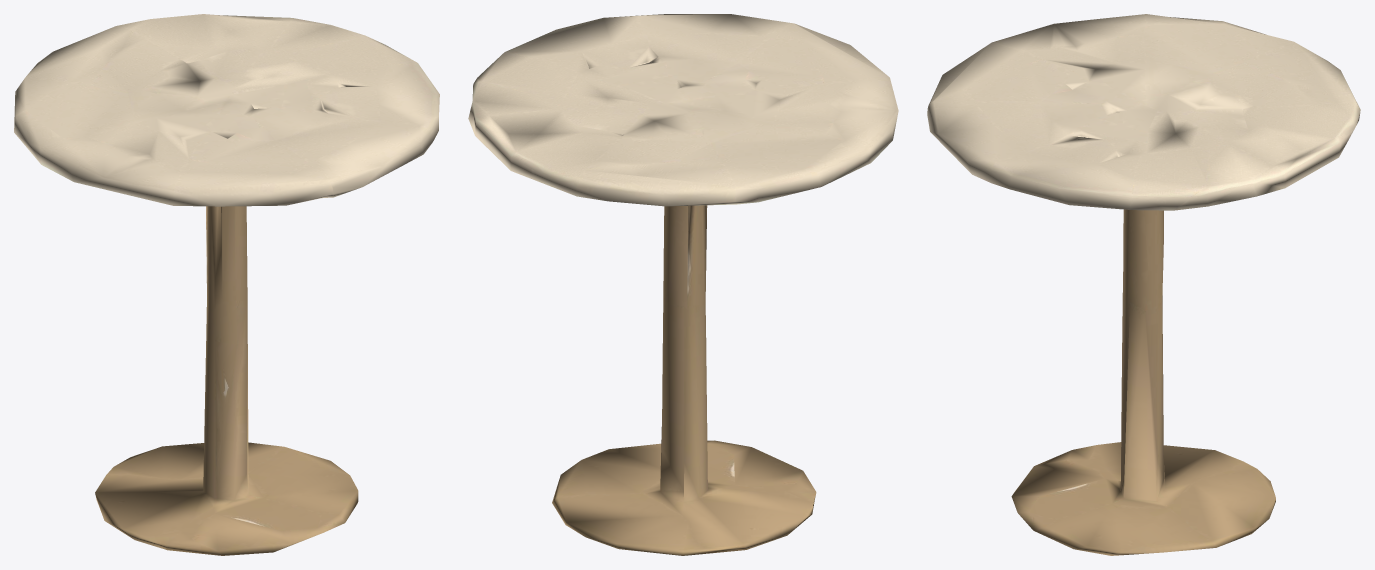
Rendered from cafetable_lod1.glb.
3 views of the same model, side by side, from view 1: azimuth 30°, elevation 25°; view 2: azimuth 150°, elevation 25°; view 3: azimuth 270°, elevation 25° (orthographic).
Parts seen in each view (by area): view 1: tripo_node_3c3d4659-8a66-43ce-8b4d-4d35e86db970; view 2: tripo_node_3c3d4659-8a66-43ce-8b4d-4d35e86db970; view 3: tripo_node_3c3d4659-8a66-43ce-8b4d-4d35e86db970.
Part boxes in pixels (left/top/right/bottom): tripo_node_3c3d4659-8a66-43ce-8b4d-4d35e86db970: left=14, top=14, right=439, bottom=555; tripo_node_3c3d4659-8a66-43ce-8b4d-4d35e86db970: left=468, top=14, right=898, bottom=555; tripo_node_3c3d4659-8a66-43ce-8b4d-4d35e86db970: left=927, top=14, right=1360, bottom=555.
Bounding box in the file's own units: 0.6314 × 0.6497 × 0.6349.
Materials: 1 (1 with a texture image).
